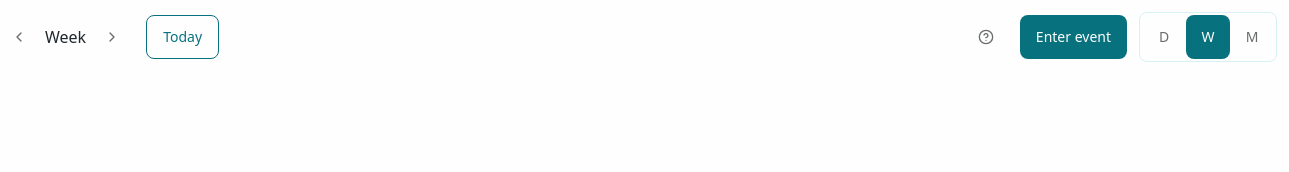
Test: Family info tips › [FAM-17][AC-07] the Calendar toolbar's 'Enter event' has a tip with its help text
Click the button named "About Enter event" at {"x": 986, "y": 37}, box left=964, top=15, right=1008, bottom=59
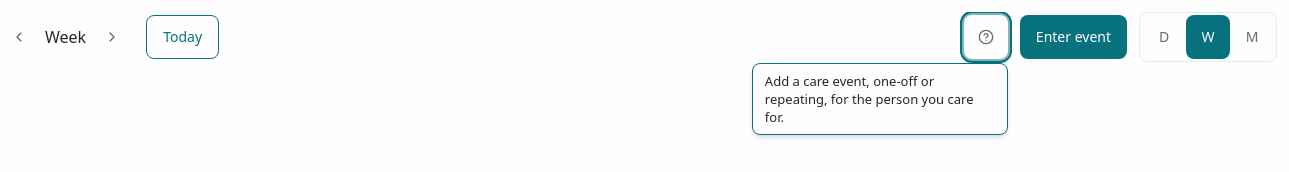
expect the tooltip reads "Add a care event, one-off or repeating, for the person you care for.": met, box left=765, top=72, right=974, bottom=126
